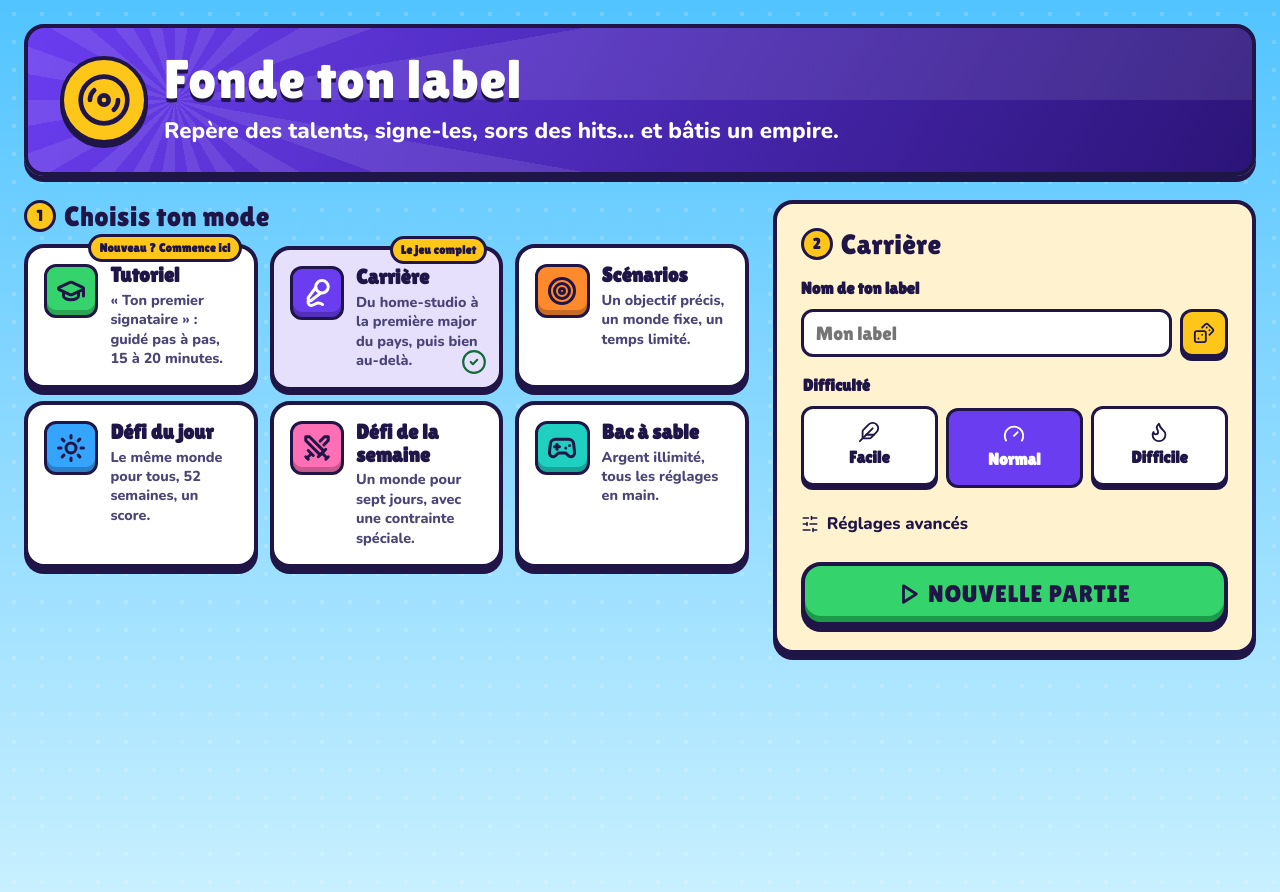
Scenario: écran Repérage › propose les quatre sources, lance une session gratuite et liste les talents suivis
Click the button "Nouvelle partie" at (1014,594), box [801,562,1228,626]
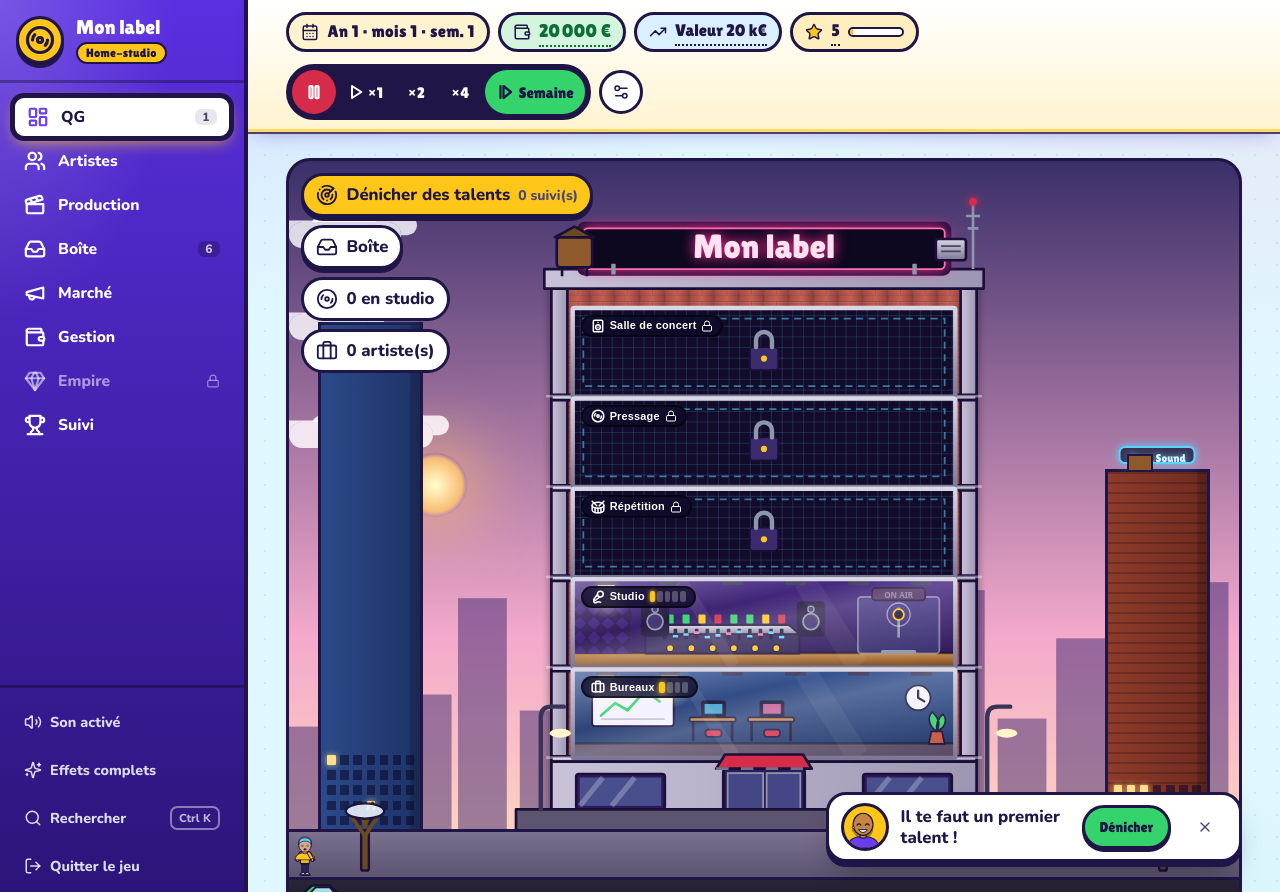
Click the button "Artistes" at (122,161), box [12,139,232,183]
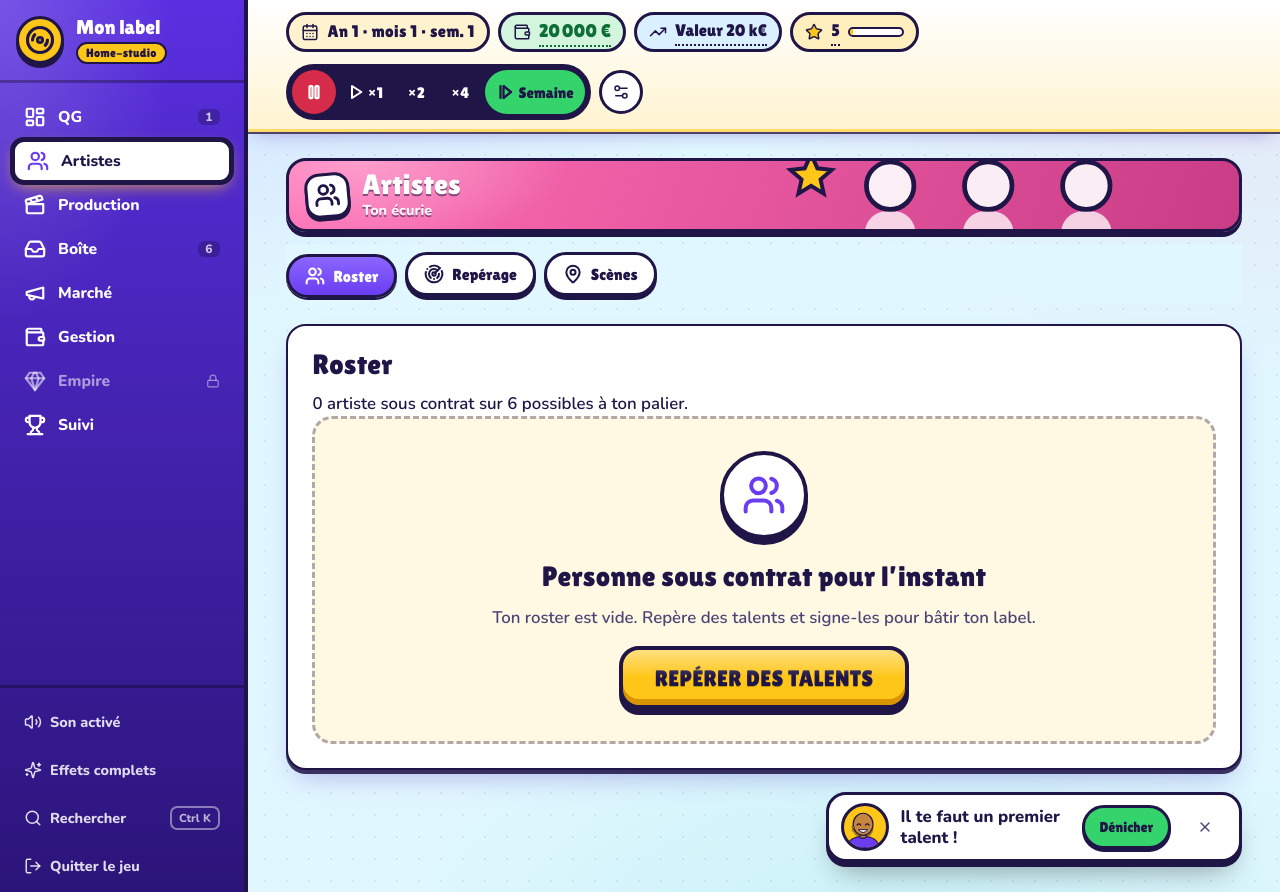
Click the tab "Repérage" at (471,274), box [405,252,536,296]
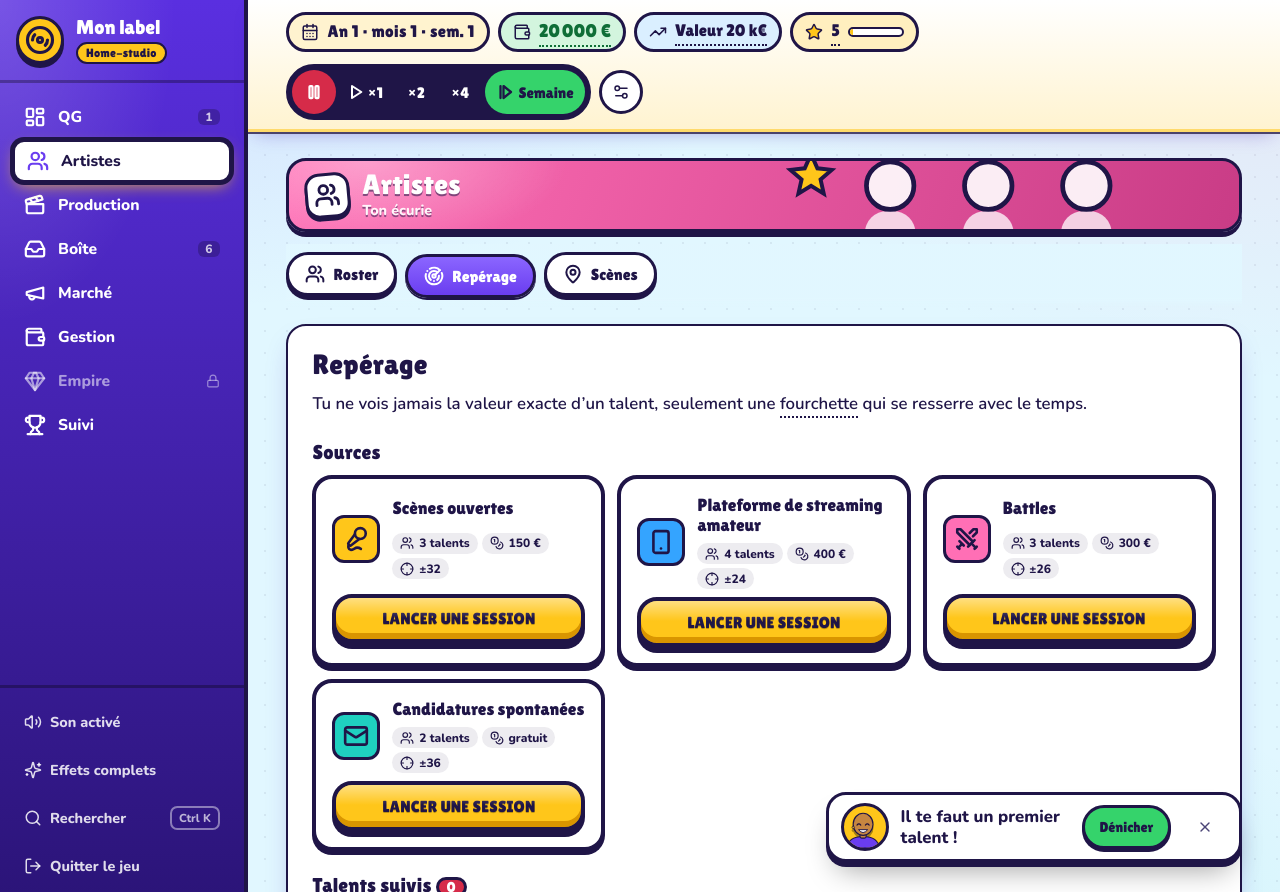
Expected: the number of buttons "Lancer une session" is 4
Click the button "Lancer une session" below "Candidatures spontanées" at (459,806), box [332,781,586,831]
(page scrolled)
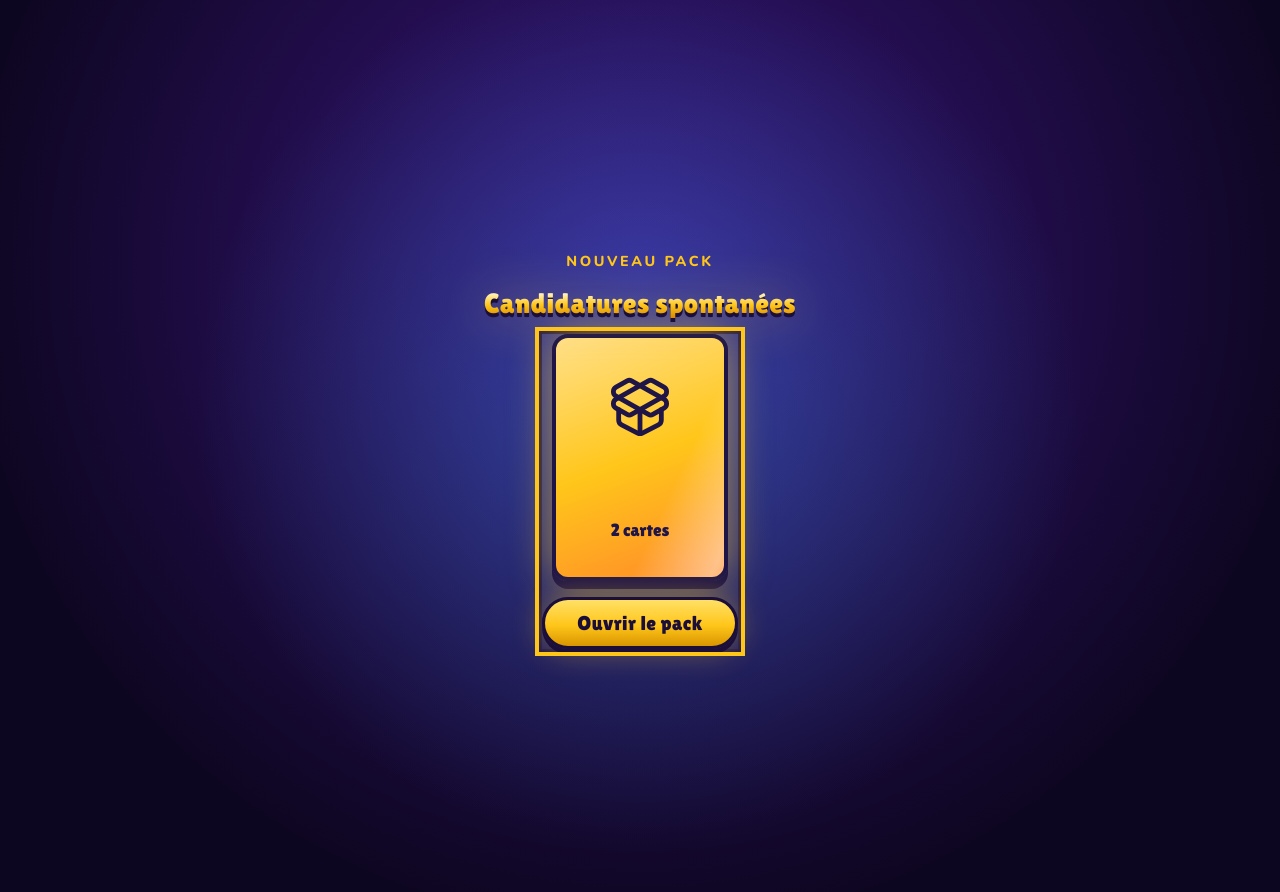
Expected: the list item with class "label-prospect" that starts with "Rare" is shown, [312,427,758,786]
Expected: the list item with class "label-prospect" shows "restent cachés", [512,540,615,689]
